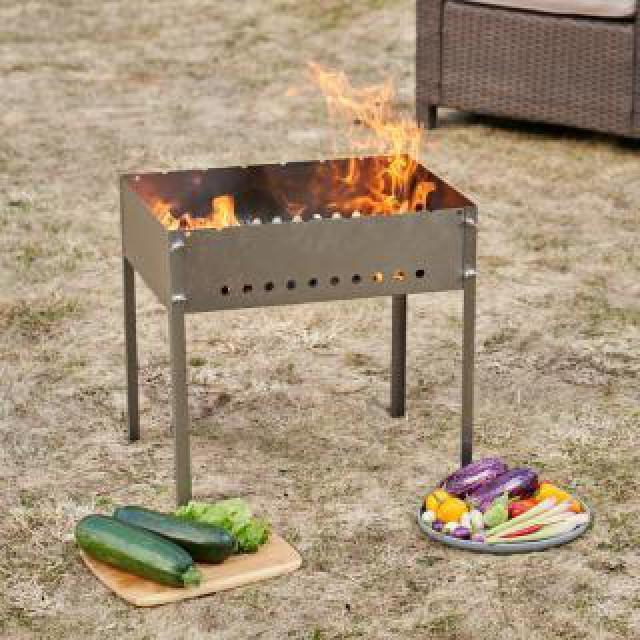Fire: (310, 64, 448, 226), (154, 166, 248, 240)
